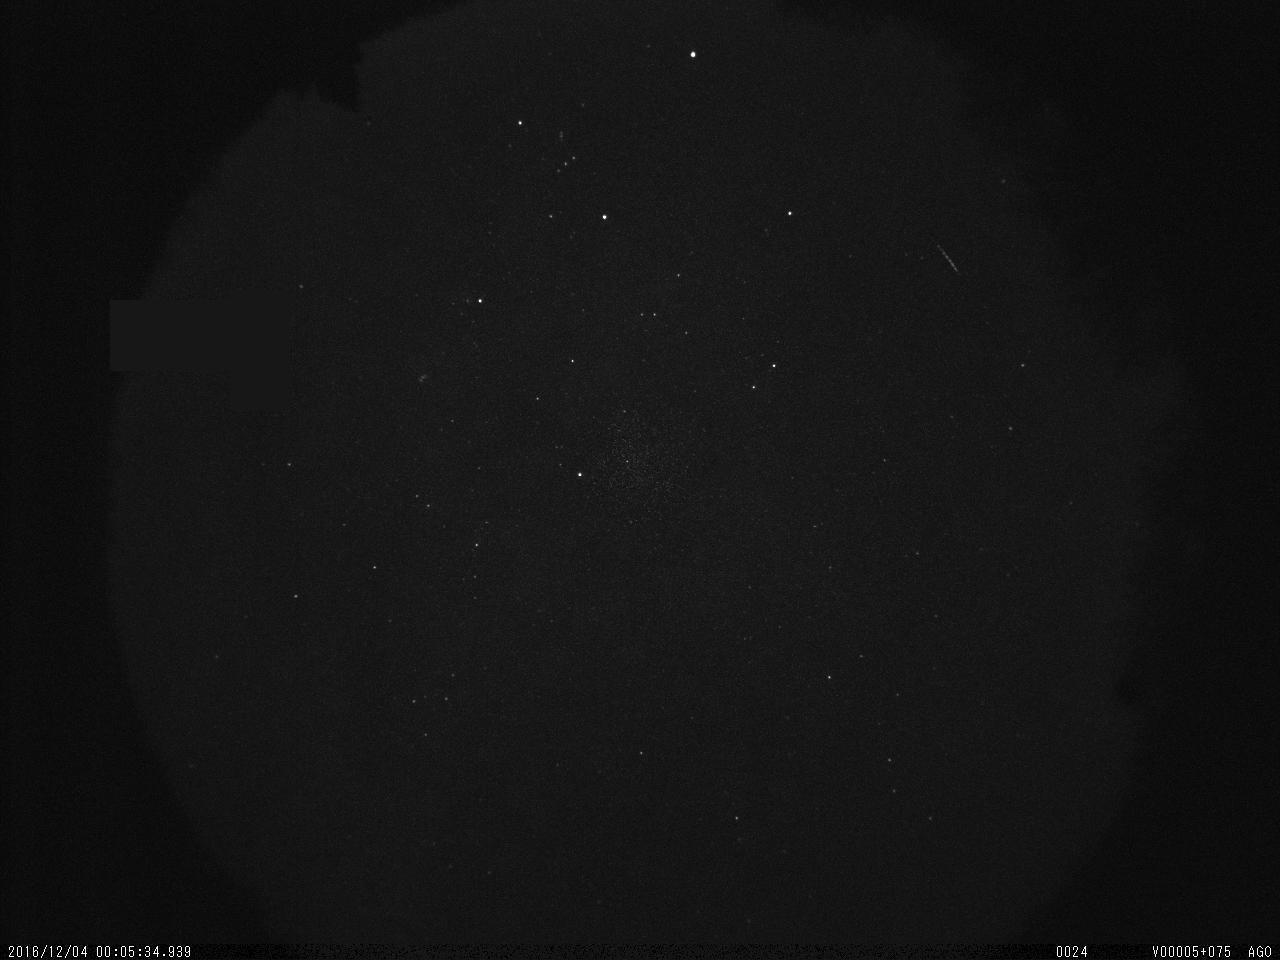Meteor: (934, 241, 963, 274)
